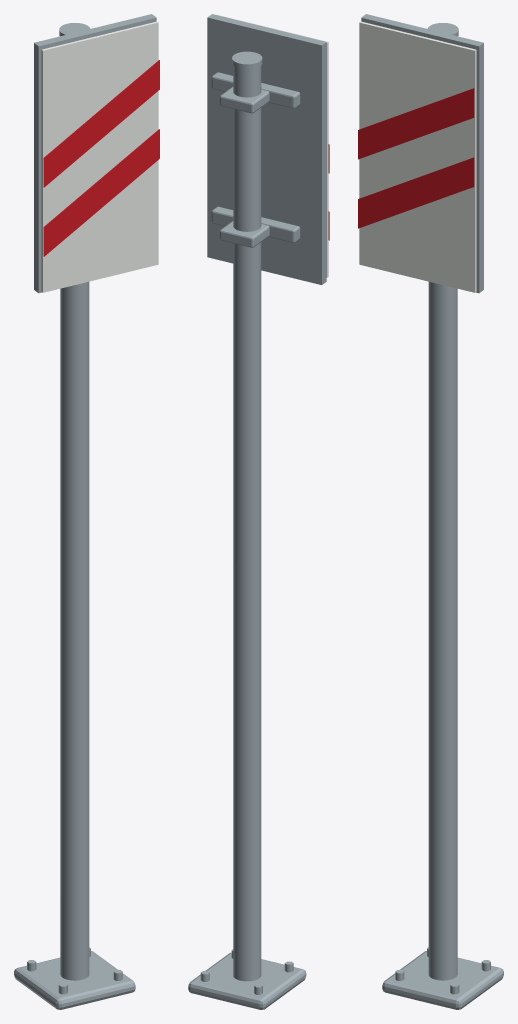
Rendered from DS_Sign_RailwayDist2_R.fbx.
3 renders of one model, left to right at view 1: azimuth 30°, elevation 25°; view 2: azimuth 150°, elevation 25°; view 3: azimuth 330°, elevation 25°, orthographic. The views are drawn at different scales.
Visible parts, largest first — view 1: Face_Field.003, Post.005, Stripe_0.001, Stripe_1.001, BasePlate.005, Plate_Back.008; view 2: Post.005, Plate_Back.008, BasePlate.005, RearRail.012, RearRail.011, Face_Field.003, PostClamp.012, PostClamp.011, PostCap.005; view 3: Face_Field.003, Post.005, BasePlate.005, Stripe_0.001, Stripe_1.001, Plate_Back.008.
Part boxes in pixels (<box>): Face_Field.003: <box>41,21,158,292</box>; Post.005: <box>60,281,89,980</box>; Stripe_0.001: <box>43,129,159,256</box>; Stripe_1.001: <box>43,60,159,187</box>; BasePlate.005: <box>14,951,135,1009</box>; Plate_Back.008: <box>34,14,156,293</box>; Post.005: <box>233,66,261,981</box>; Plate_Back.008: <box>207,14,326,284</box>; BasePlate.005: <box>188,952,306,1009</box>; RearRail.012: <box>211,72,300,108</box>; RearRail.011: <box>211,206,300,242</box>; Face_Field.003: <box>216,14,328,277</box>; PostClamp.012: <box>220,86,269,113</box>; PostClamp.011: <box>220,221,269,247</box>; PostCap.005: <box>232,51,262,69</box>; Face_Field.003: <box>359,21,476,292</box>; Post.005: <box>428,281,457,980</box>; BasePlate.005: <box>382,951,503,1009</box>; Stripe_0.001: <box>358,157,474,228</box>; Stripe_1.001: <box>358,88,474,159</box>; Plate_Back.008: <box>361,14,483,293</box>.
Size of the model in its own units: 35.7 by 281 by 26.2.
